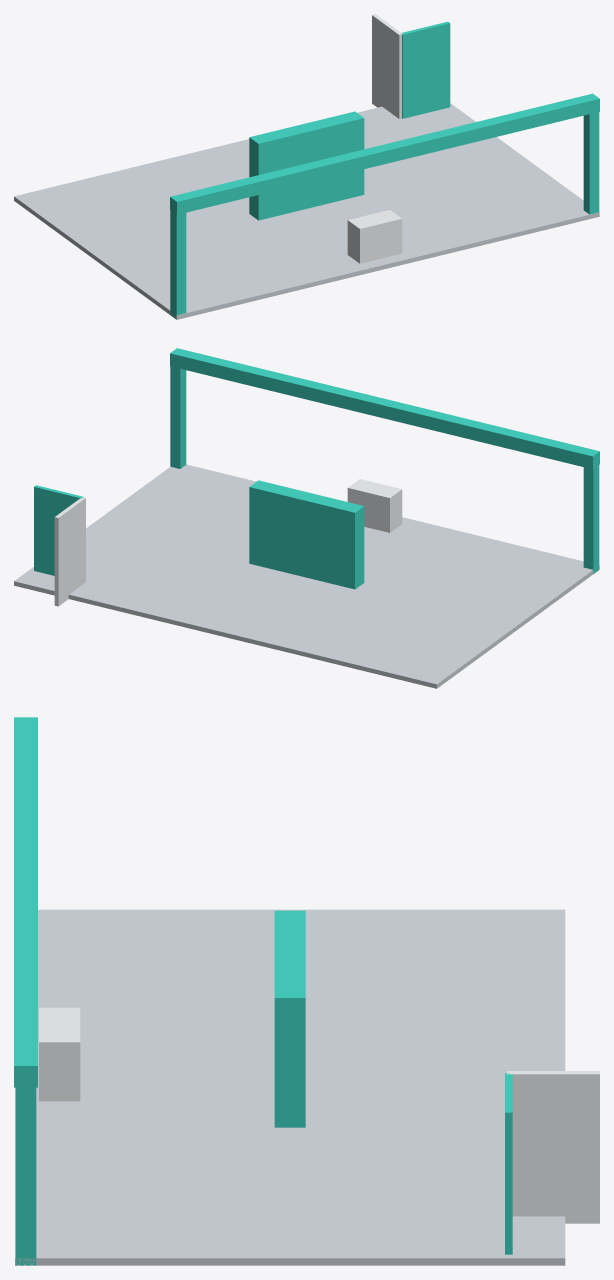
3 views of the same model, one above another, from view 1: azimuth 30°, elevation 25°; view 2: azimuth 150°, elevation 25°; view 3: azimuth 270°, elevation 25° (orthographic). The views are drawn at different scales.
Visible parts, largest first — view 1: Exhibition Booth Concept; view 2: Exhibition Booth Concept; view 3: Exhibition Booth Concept.
Boxes of the visible parts, x1,y1,x2,y2 form: Exhibition Booth Concept: (14, 14, 599, 319); Exhibition Booth Concept: (14, 348, 599, 688); Exhibition Booth Concept: (14, 717, 599, 1265).
Size of the model in its own units: 12 by 3.2 by 8.52.
